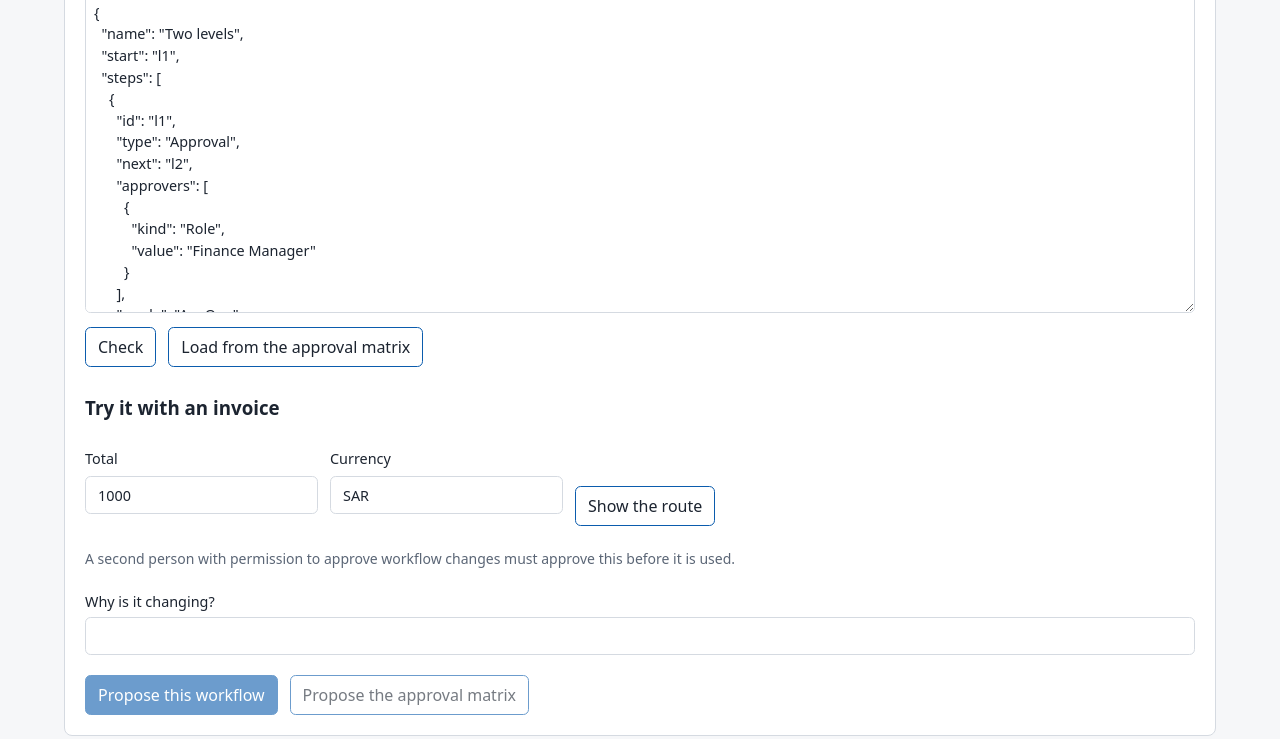
Test: workflow administration › reports validation problems in the editor and proposes a valid definition with a reason
(page scrolled)
Click the button "Check" at {"x": 121, "y": 347}, box [85,326,156,367]
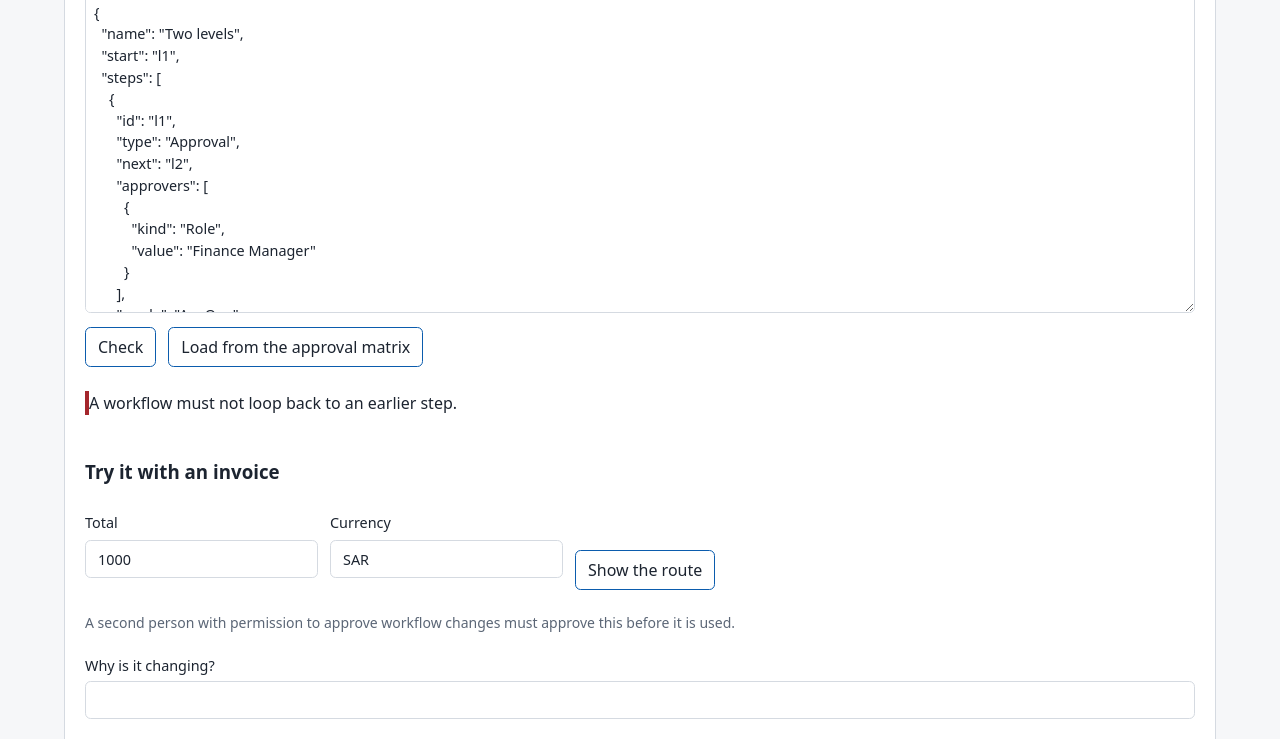
Check: the list item "A workflow must not loop back to an earlier step." is shown, box [89,392,457,414]
Type "Add CFO level" into the field labelled "Why is it changing?" at {"x": 640, "y": 700}, box [85,681,1195,719]
(page scrolled)
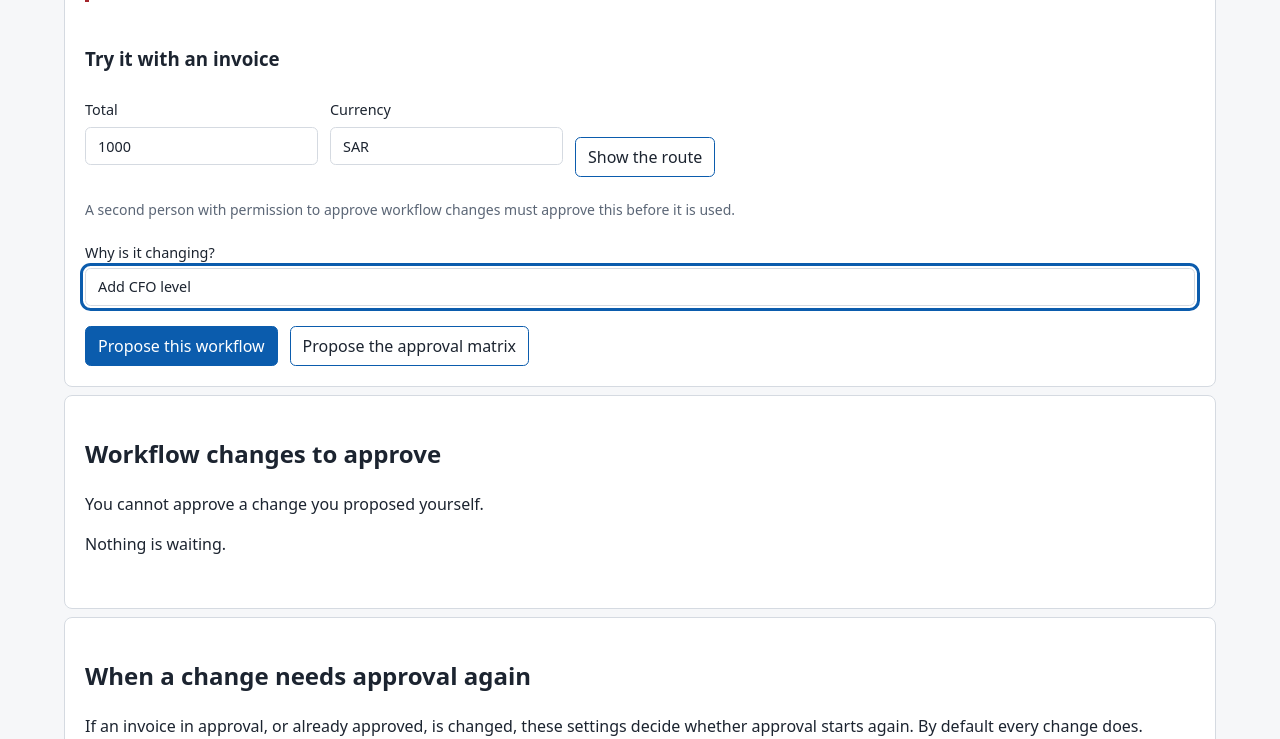
Click the button "Propose this workflow" at {"x": 181, "y": 346}, box [85,326,278,366]
(page scrolled)
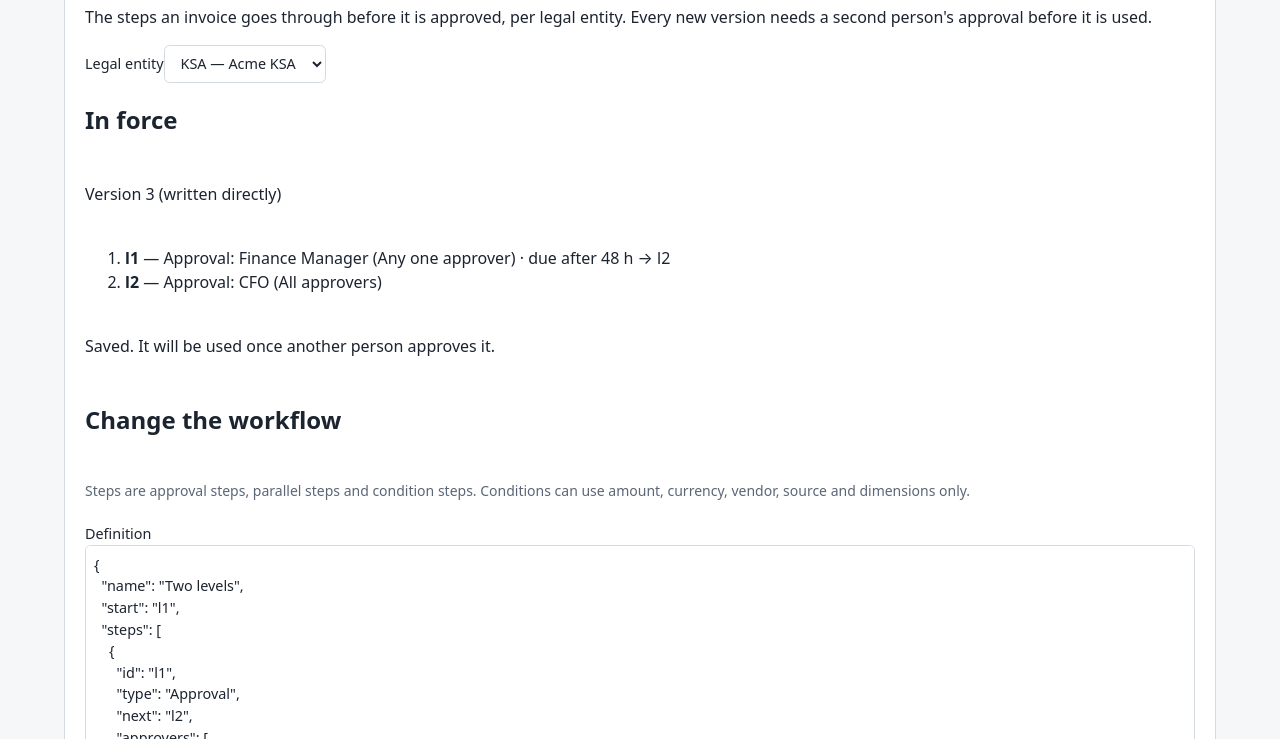
Check: the text "Saved. It will be used once another person approves it." is shown, box [85,335,495,357]
